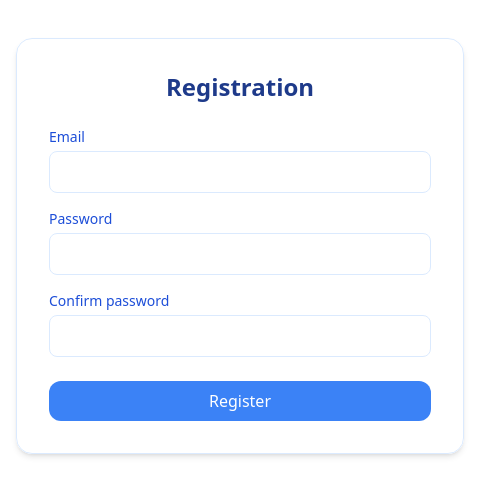
Scenario: show too short password error
The image size is (481, 497).
In the field labelled "Email": (240, 172) 49,151 -> 431,193, type "example@gmail.com"
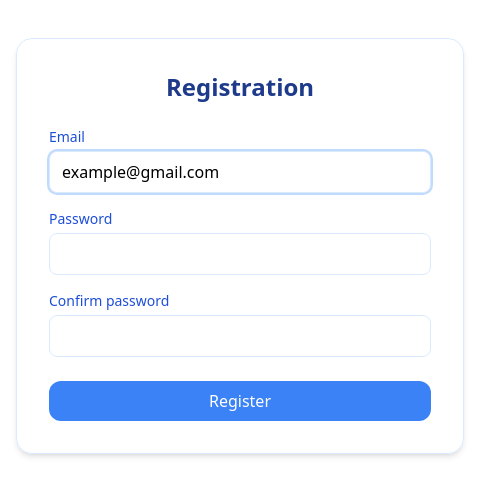
In the password field labelled "Password": (240, 254) 49,233 -> 431,275, type "examp"
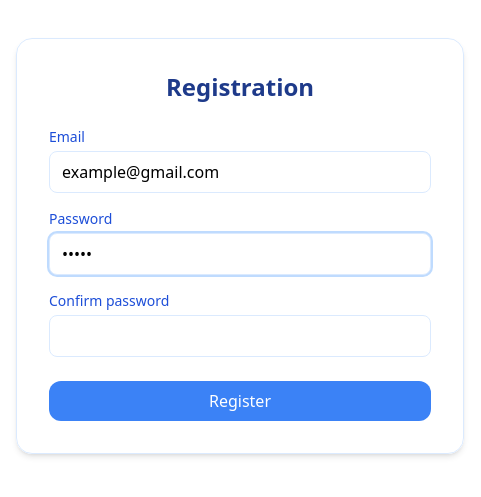
Click the button "Register": click(240, 401) 49,381 -> 431,421
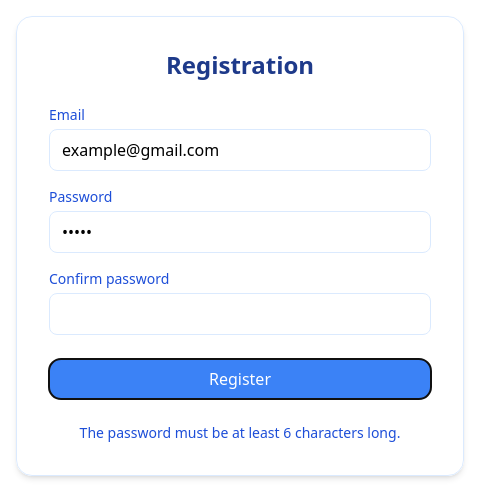
Now the text "The password must be at least 6 characters long." is shown, box 80,423 -> 400,442
